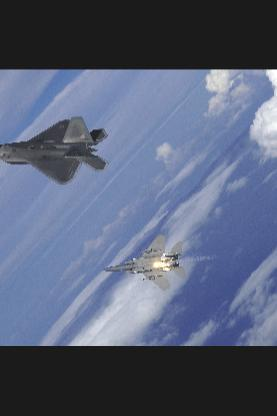F117: (100, 235, 184, 290)
F18: (0, 116, 108, 186)
